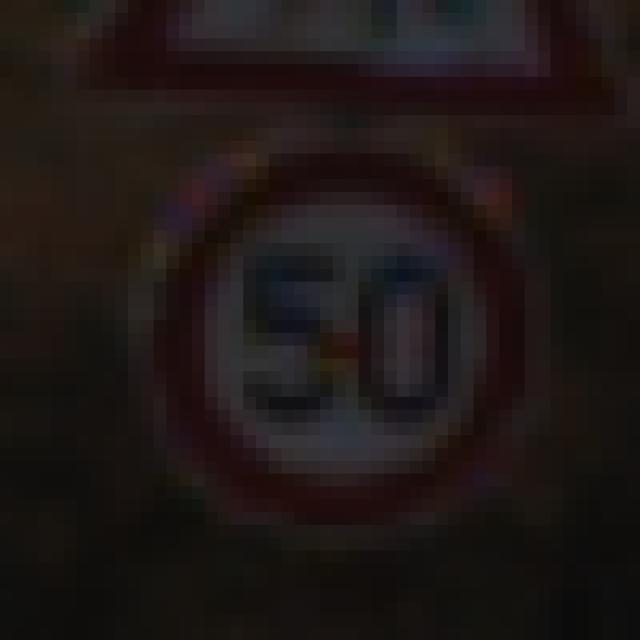Limite-50: (141, 123, 555, 544)
